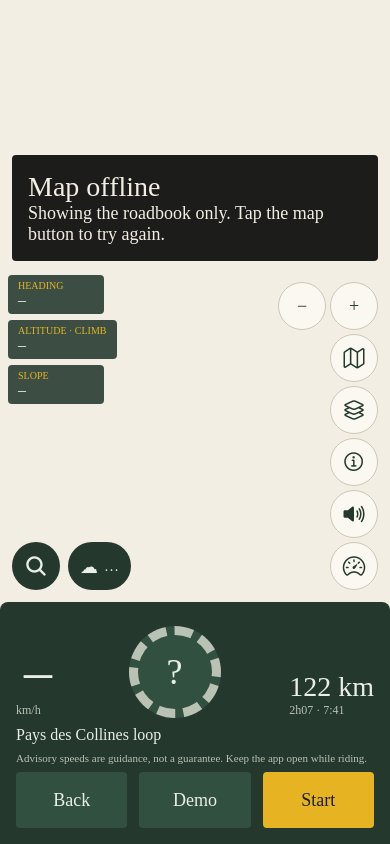
Scenario: a basemap that cannot load falls back to No map and says so, and can be retried
expect the text "Map offline" is shown: met, box [28,171,160,202]
Click the button named "Map: No map. Tap to change". click: click(354, 410)
box: [330,386,378,434]
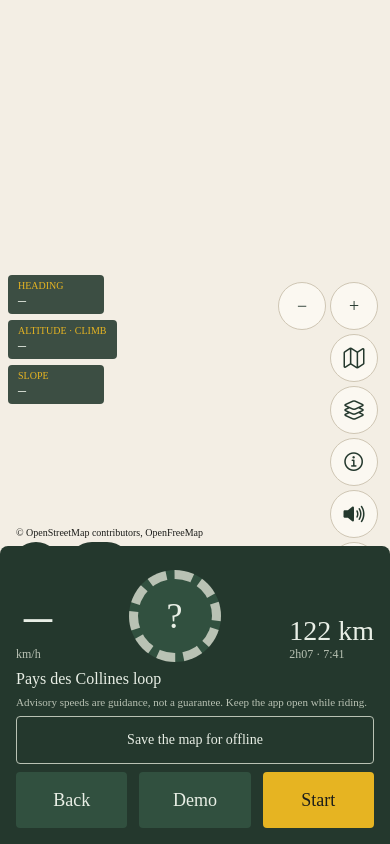
expect the text "Map offline" is gone: met
